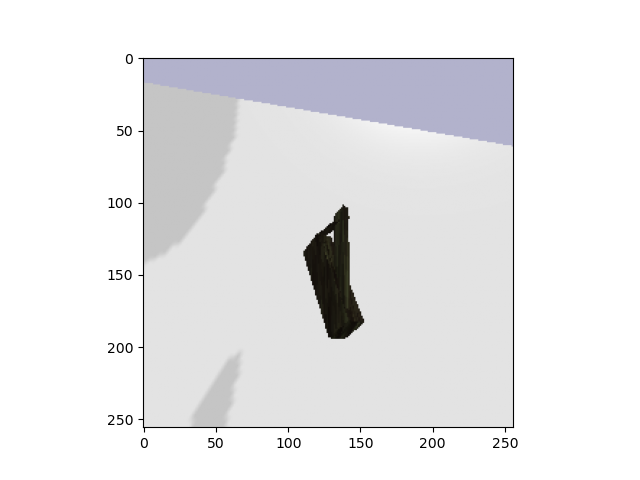v249b387_109: (299, 203, 370, 341)
